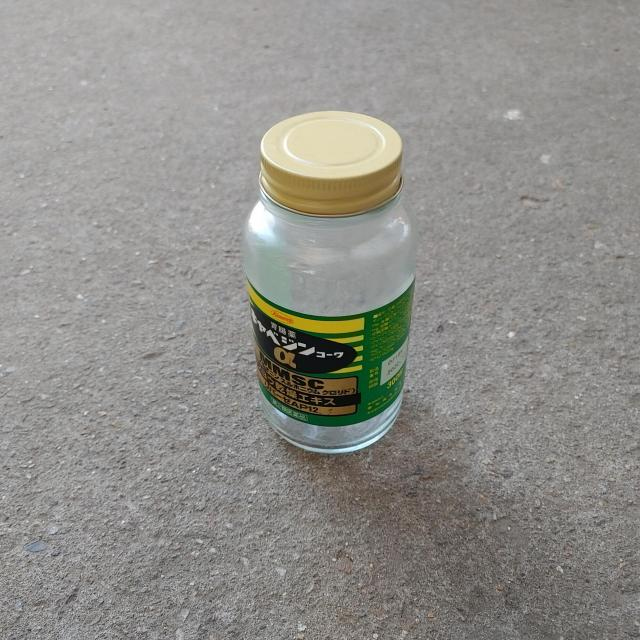glass: (243, 110, 418, 454)
